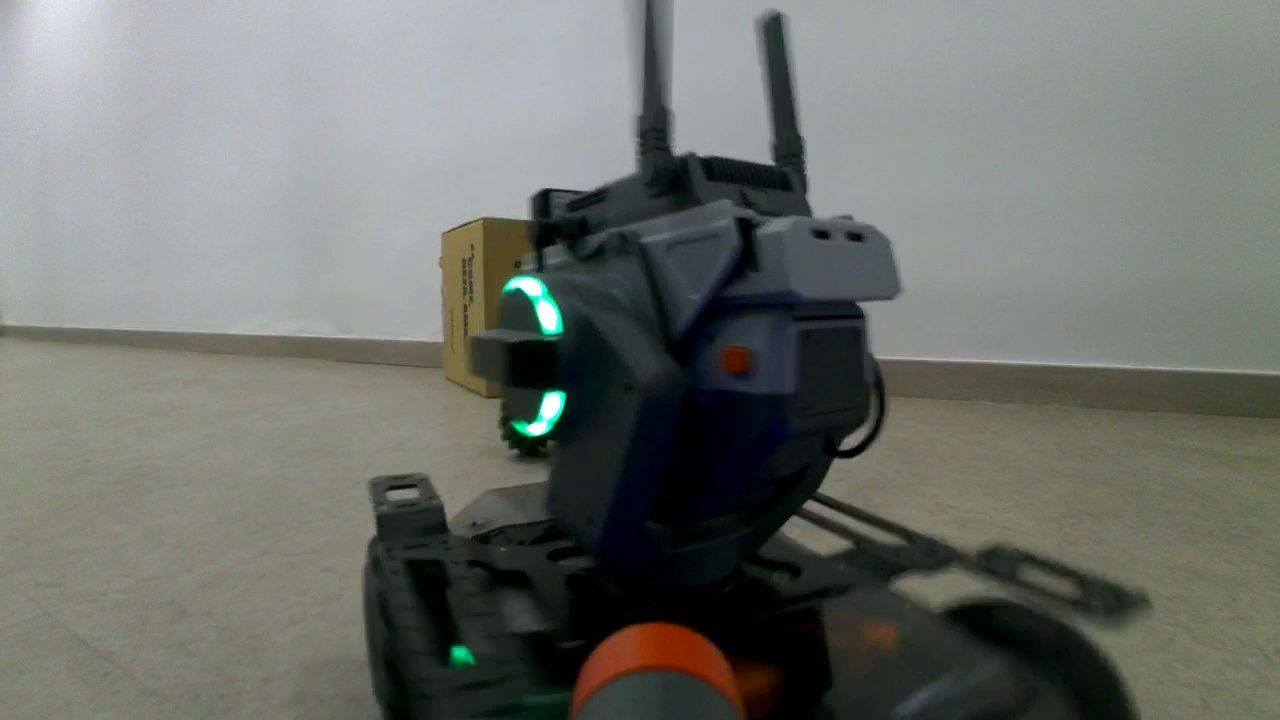robot: (363, 160, 912, 710)
